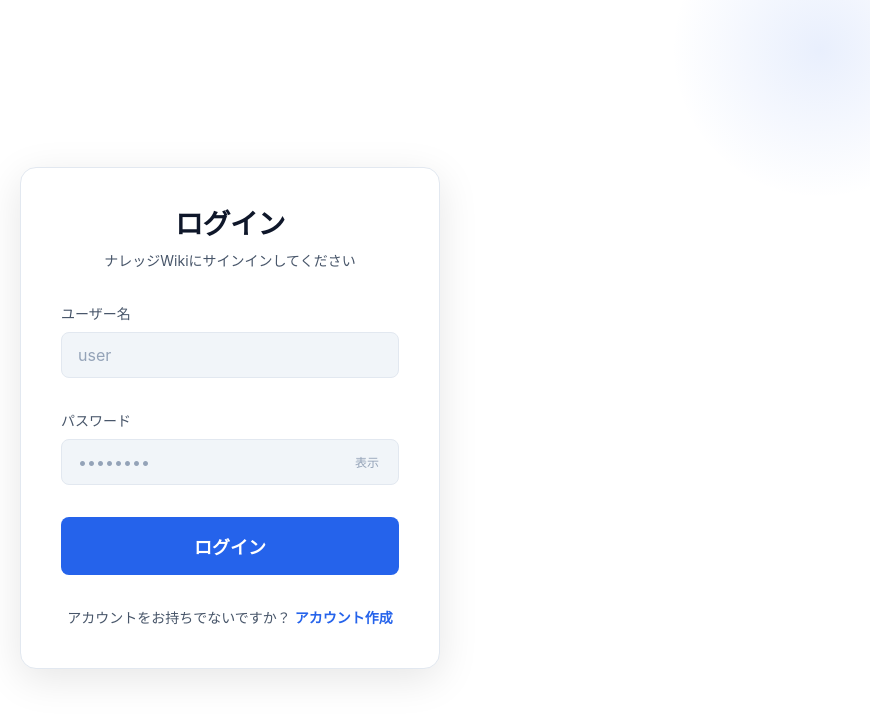
Test: Auth flow › 誤資格情報で 401 メッセージを表示
Step 1. Type "admin" into the field labelled "ユーザー名" → (230, 355), box [61, 332, 399, 378]
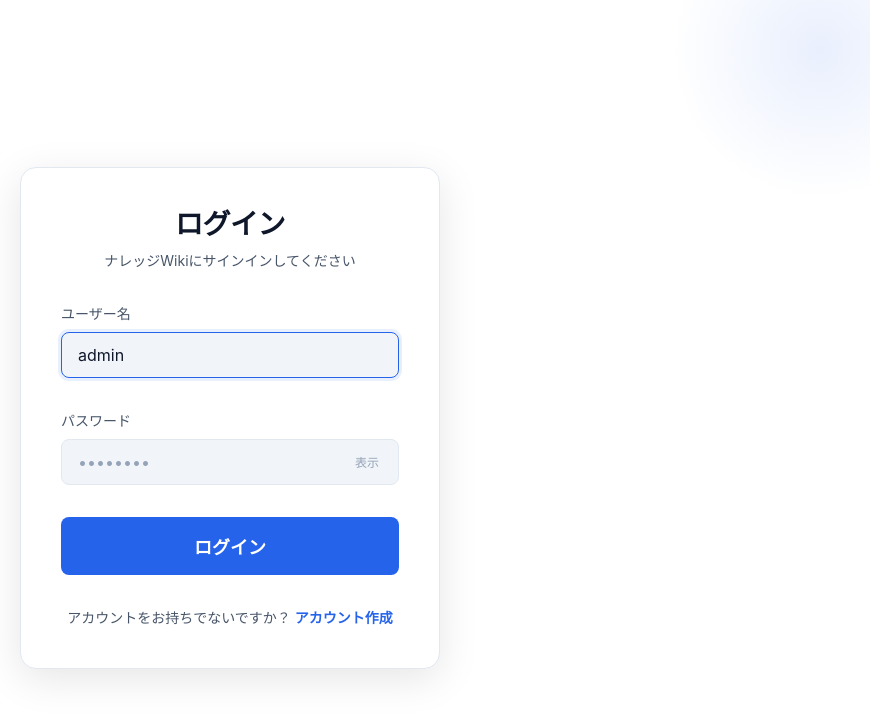
Step 2. Type "wrong" into the password field labelled "パスワード" → (230, 462), box [61, 439, 399, 485]
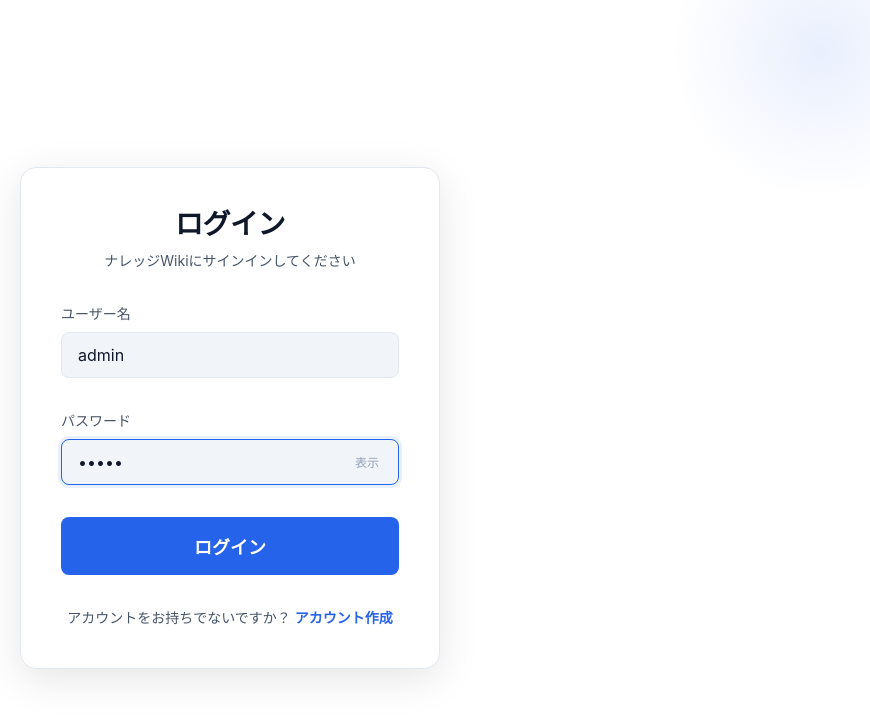
Step 3. Click the button "ログイン" → click(230, 546), box [61, 517, 399, 575]
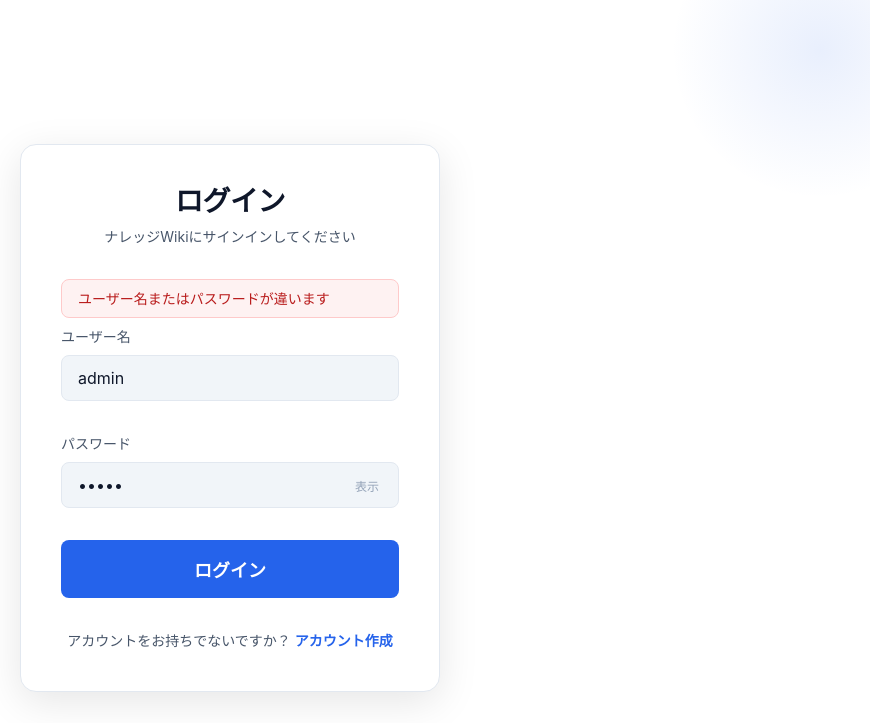
Expected: the text "ユーザー名またはパスワードが違います" is shown, [61, 279, 399, 318]
